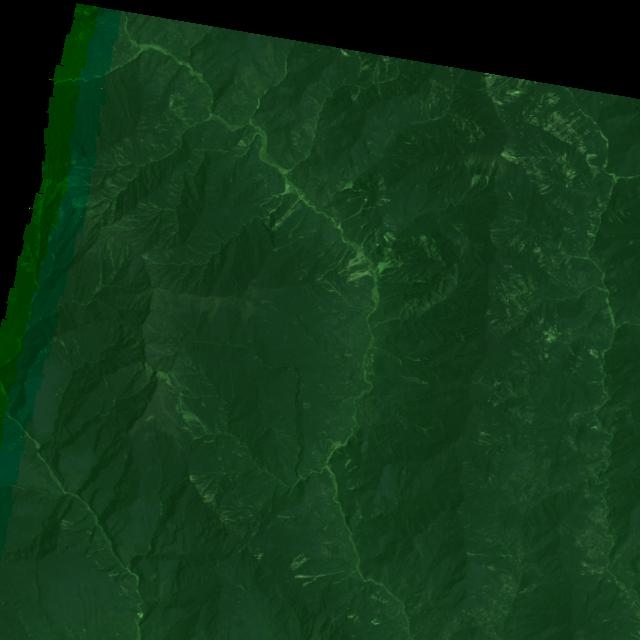landslides: (316, 246, 350, 282), (369, 368, 429, 386), (338, 198, 368, 227), (271, 203, 302, 231), (319, 279, 349, 306), (195, 471, 228, 495), (170, 369, 198, 397), (288, 208, 310, 238), (274, 235, 306, 252), (374, 346, 402, 365), (294, 570, 346, 579), (282, 196, 301, 219), (398, 298, 419, 318), (376, 259, 403, 274), (338, 251, 354, 274), (429, 78, 453, 93), (370, 318, 400, 330), (361, 228, 378, 249), (602, 616, 640, 625), (203, 478, 220, 498), (347, 269, 373, 282), (348, 264, 371, 278), (260, 193, 282, 207), (319, 240, 336, 257), (203, 487, 219, 504), (524, 228, 551, 238), (178, 358, 197, 372), (291, 557, 309, 571), (189, 471, 210, 483), (347, 257, 366, 270), (347, 251, 363, 266), (73, 337, 83, 361), (415, 424, 432, 438), (479, 431, 500, 442), (179, 392, 212, 399), (519, 233, 536, 246), (277, 436, 290, 453), (222, 509, 246, 518), (290, 553, 304, 568), (106, 177, 122, 190), (157, 371, 171, 385), (506, 433, 516, 452), (361, 60, 375, 73), (148, 197, 161, 211), (472, 381, 492, 390), (471, 174, 482, 190), (183, 410, 197, 422), (377, 269, 397, 277), (58, 353, 70, 366), (322, 520, 336, 531), (467, 157, 476, 174), (145, 363, 154, 380), (60, 337, 68, 354), (332, 576, 347, 585), (610, 385, 622, 396), (467, 552, 489, 558), (302, 578, 316, 587), (304, 461, 315, 472), (353, 87, 361, 102), (75, 166, 95, 172), (347, 282, 370, 287), (116, 173, 130, 181), (517, 244, 527, 255), (119, 153, 129, 164), (329, 439, 341, 448), (385, 232, 397, 241), (407, 357, 428, 362), (541, 188, 554, 196), (383, 235, 393, 245), (225, 516, 245, 521)
